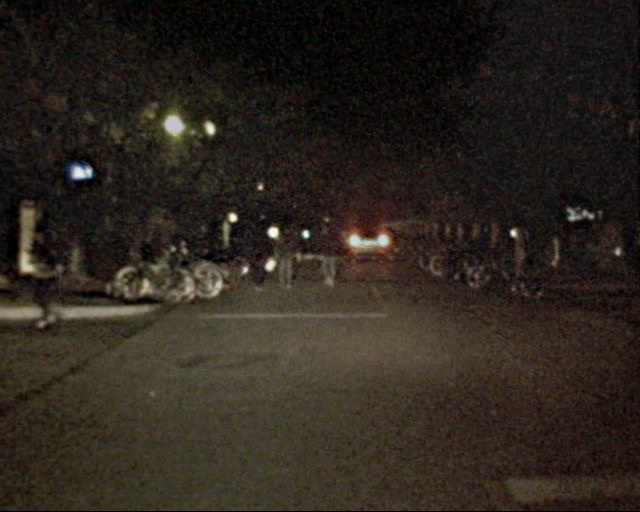person: (24, 220, 78, 333), (311, 217, 342, 289), (242, 217, 269, 289), (276, 221, 302, 294)
